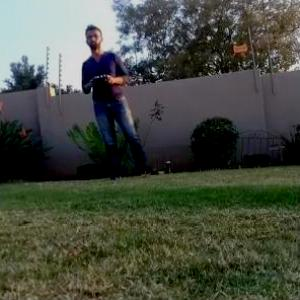follow: (79, 21, 156, 184)
